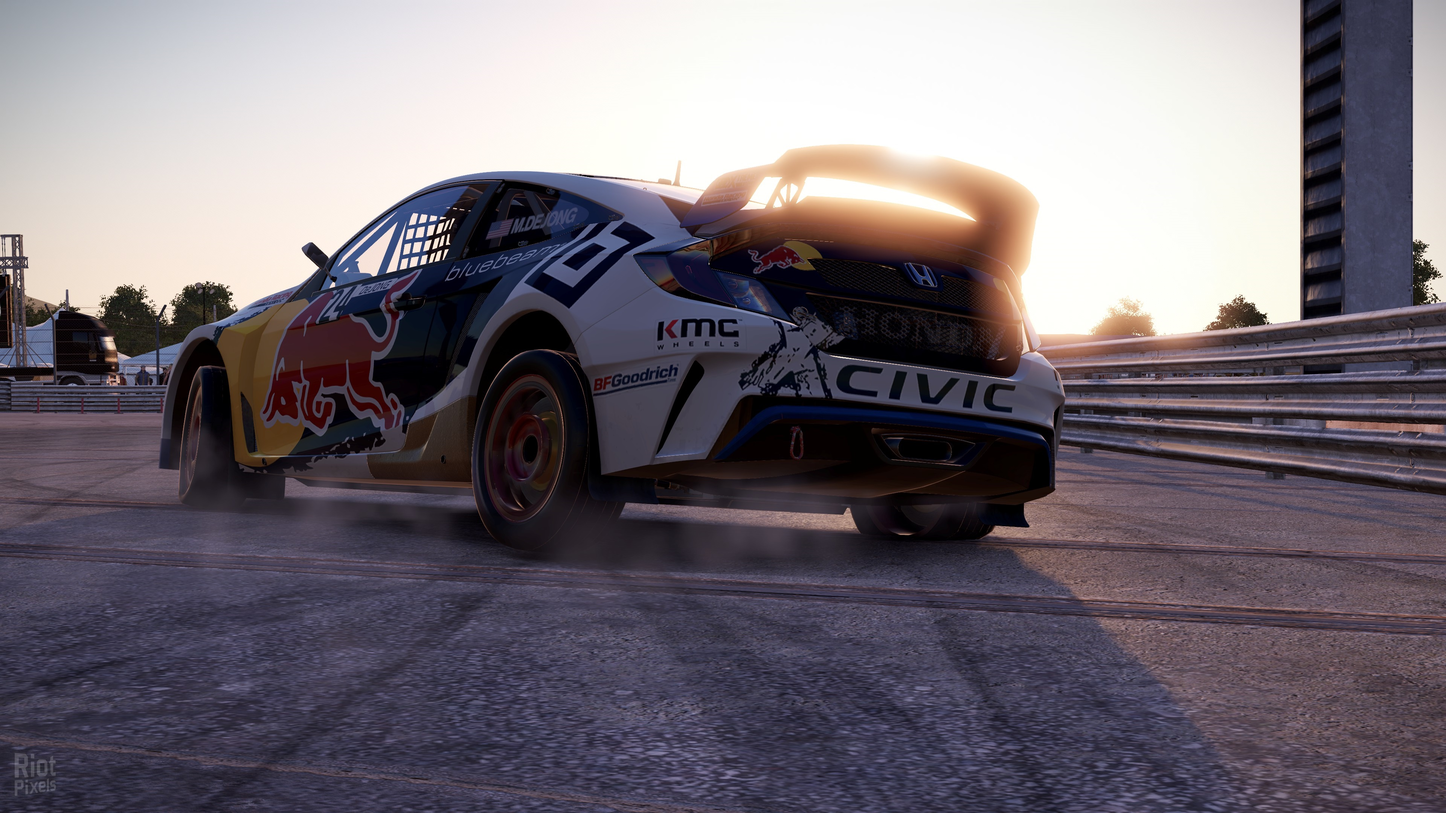other: (158, 157, 1055, 542)
